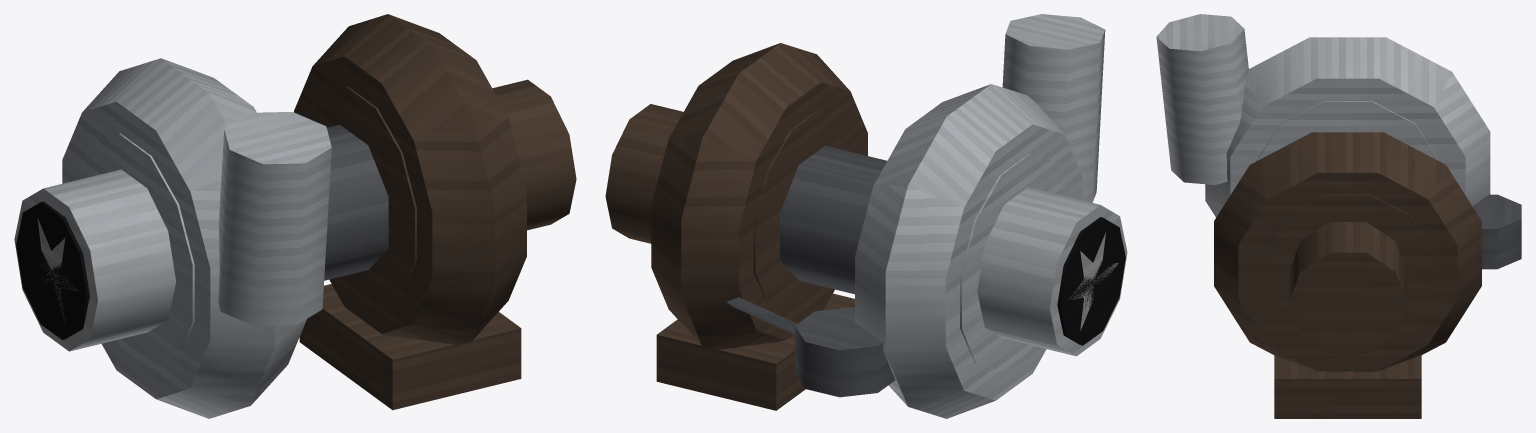
The model's file is turbo_fabrica.glb.
The picture shows the model from 3 angles, left to right: view 1: azimuth 30°, elevation 25°; view 2: azimuth 150°, elevation 25°; view 3: azimuth 270°, elevation 25°; orthographic projection. The views are drawn at different scales.
Visible parts, largest first — view 1: turbo_fabrica; view 2: turbo_fabrica; view 3: turbo_fabrica.
Part boxes in pixels (x1,y1,x2,y2): turbo_fabrica: (14, 14, 576, 418); turbo_fabrica: (605, 14, 1127, 418); turbo_fabrica: (1156, 14, 1521, 418).
Size of the model in its own units: 0.303 by 0.208 by 0.2476.
Materials: 2 (2 with a texture image).
